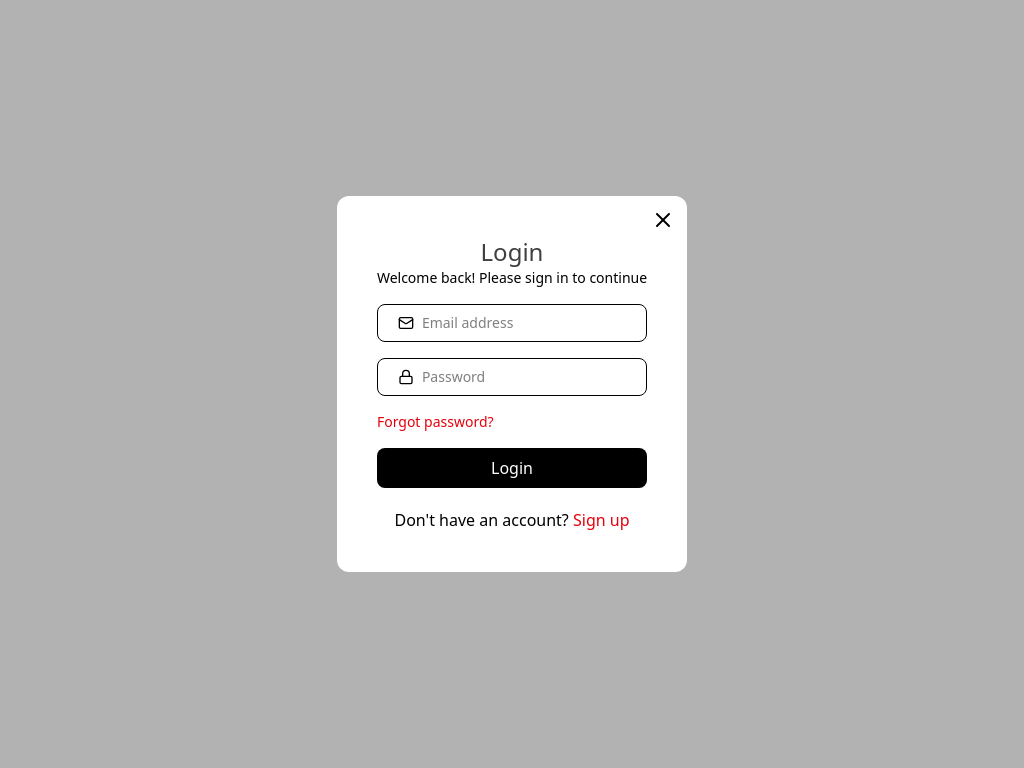
Test: Login Component › switches to Sign Up mode
Click the text "Sign up" at (601, 520), box top-left (573, 509), bottom-right (630, 531)
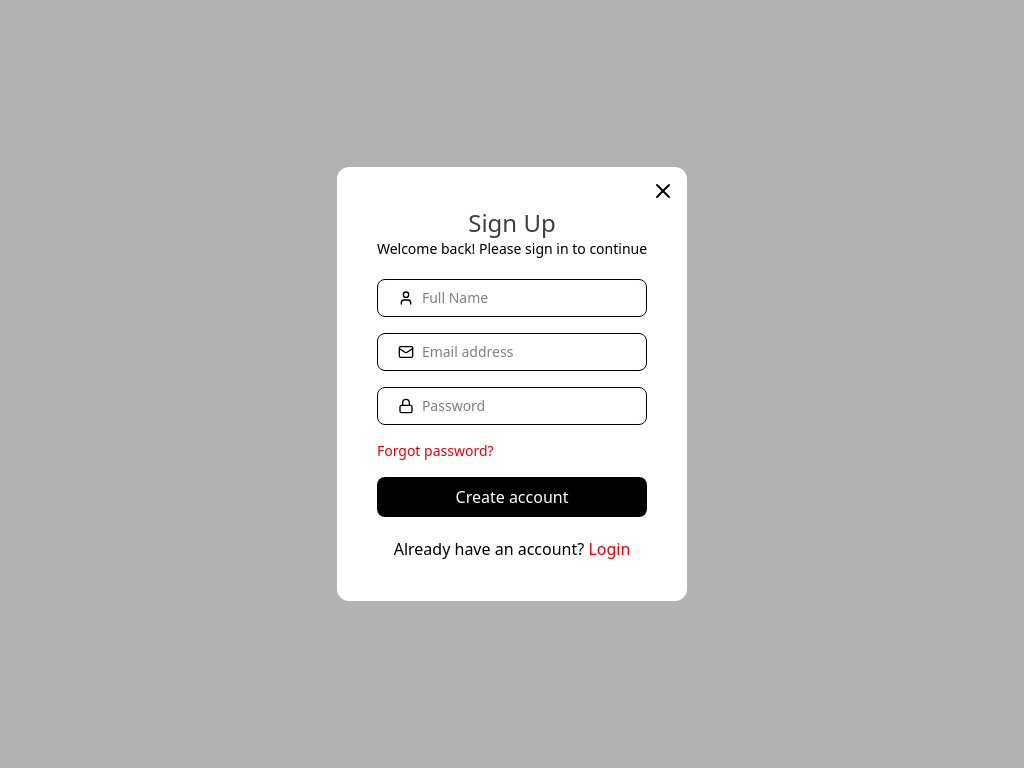
Now the heading "Sign Up" is shown, box top-left (468, 206), bottom-right (556, 239)
Now the field with placeholder "Full Name" is shown, box top-left (422, 288), bottom-right (624, 308)
